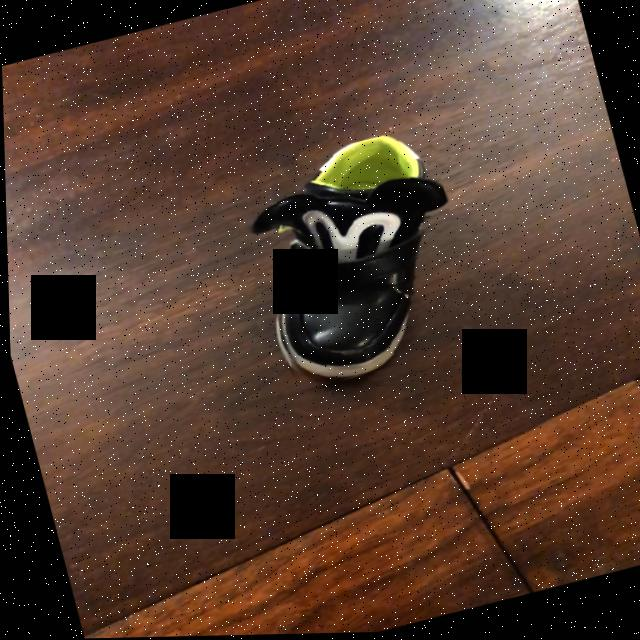shoe: (249, 137, 446, 380)
